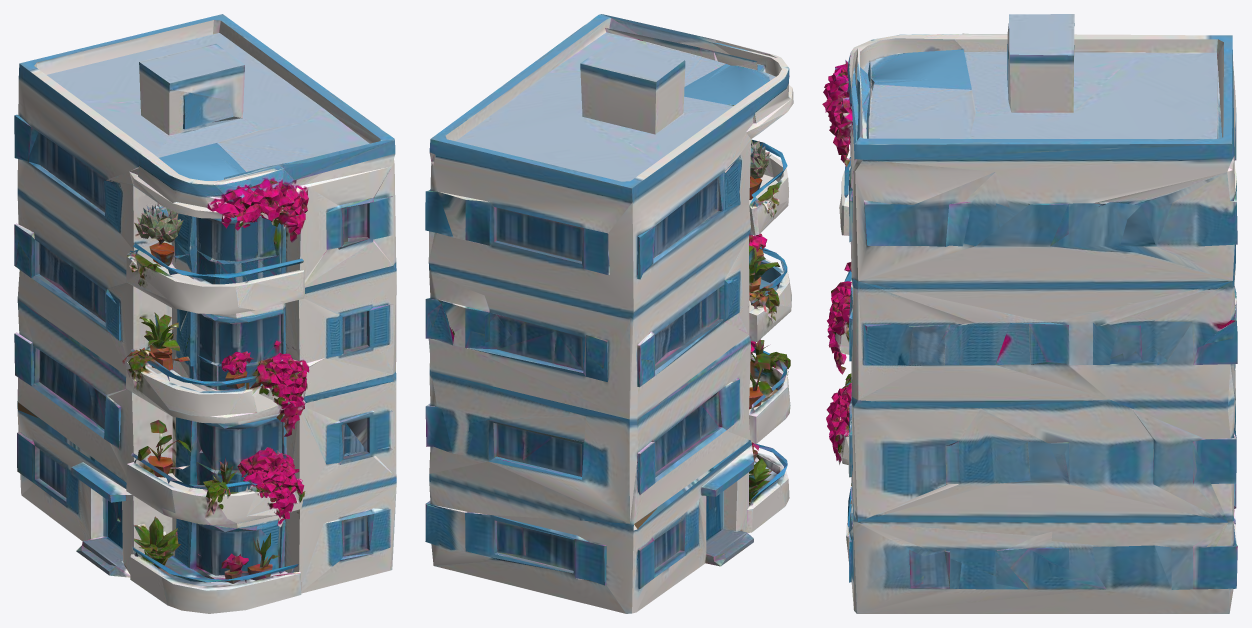
Rendered from b_bauhaus.glb.
The picture shows the model from 3 angles, left to right: view 1: azimuth 30°, elevation 25°; view 2: azimuth 150°, elevation 25°; view 3: azimuth 270°, elevation 25°; orthographic projection. The views are drawn at different scales.
Bounding box in the file's own units: 0.9469 × 1.9 × 1.38.
1 material, 1 textured.
